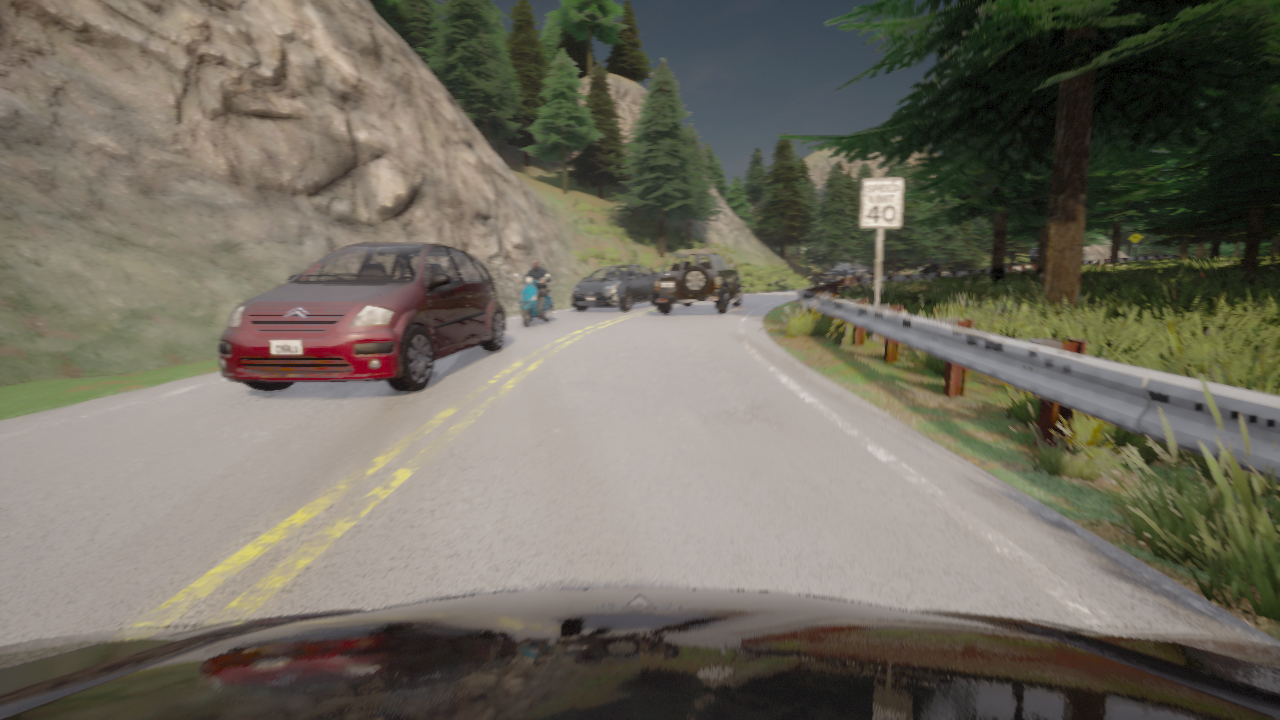cyclist: (0, 588, 1279, 719), (218, 242, 506, 391), (653, 248, 742, 313), (571, 265, 658, 310), (514, 272, 553, 327), (813, 261, 874, 285), (918, 263, 940, 273), (1029, 247, 1037, 264)
